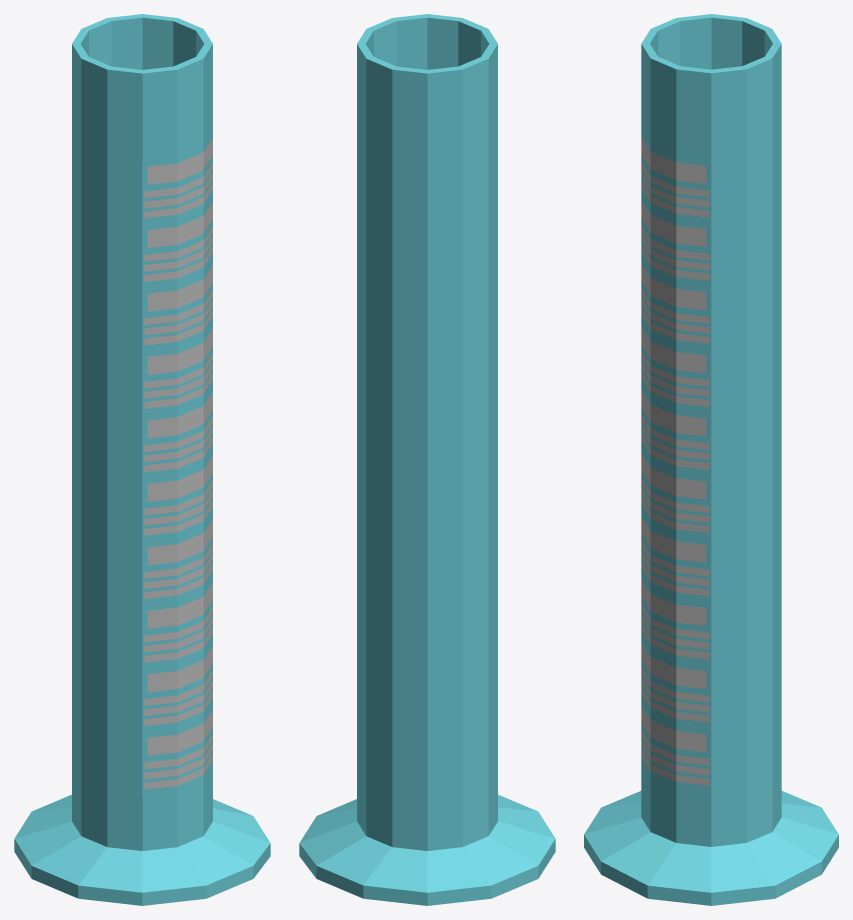
File: SM_Medicine_Glass_A.gltf
3 renders of one model, left to right at view 1: azimuth 30°, elevation 25°; view 2: azimuth 150°, elevation 25°; view 3: azimuth 270°, elevation 25°, orthographic.
Parts seen in each view (by area): view 1: SM_Medicine_Glass_A; view 2: SM_Medicine_Glass_A; view 3: SM_Medicine_Glass_A.
Boxes of the visible parts, x1=… form: SM_Medicine_Glass_A: x1=14, y1=14, x2=270, y2=905; SM_Medicine_Glass_A: x1=299, y1=14, x2=555, y2=905; SM_Medicine_Glass_A: x1=584, y1=14, x2=838, y2=905.
Size of the model in its own units: 0.0663 by 0.232 by 0.0663.
